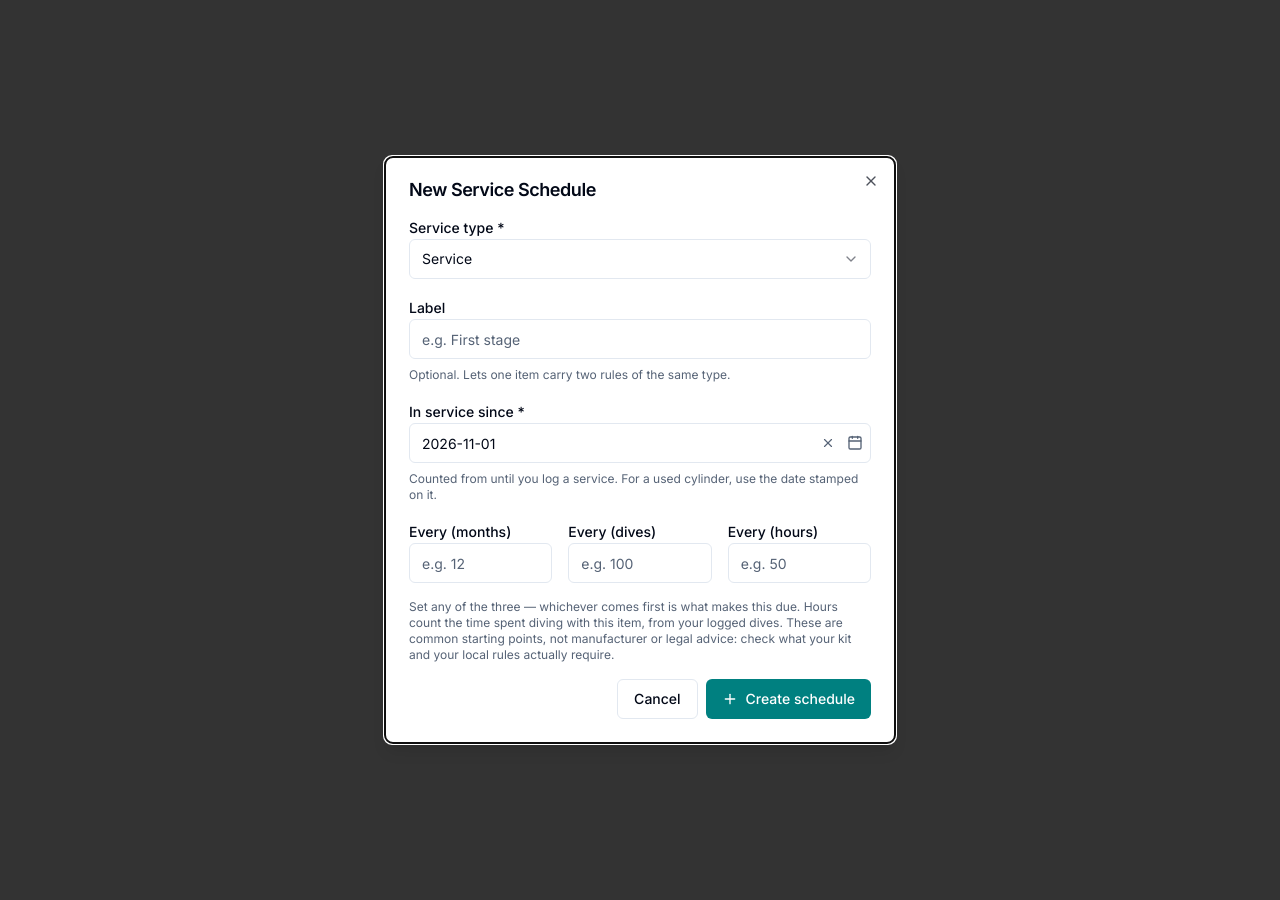
it: GearServiceScheduleDialog › refuses a rule with no interval, naming all three
Click the button "Create schedule": (788, 699) [706,679,871,719]
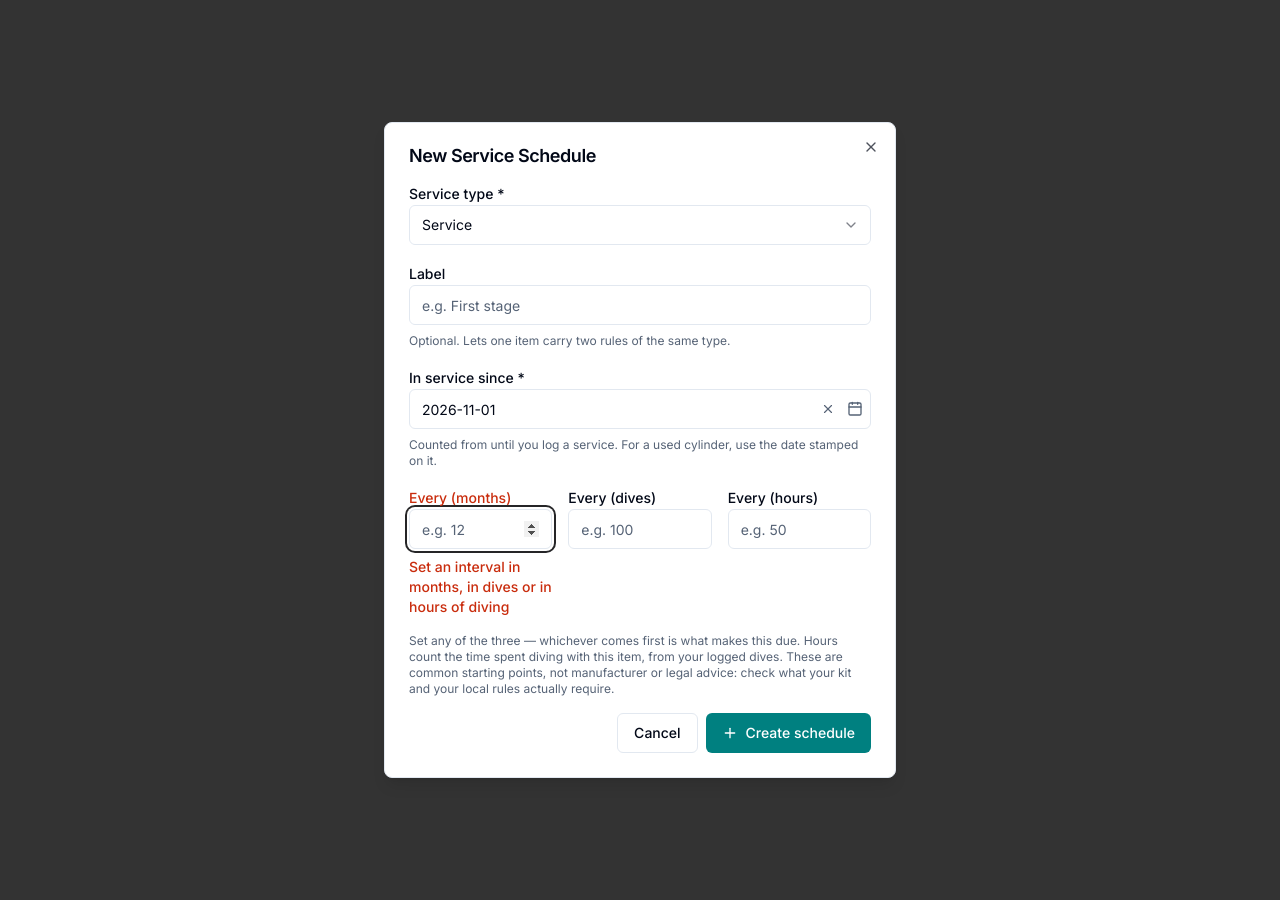
Expected: the text "Set an interval in months, in dives or in hours of diving" is shown, [409,557,552,617]
